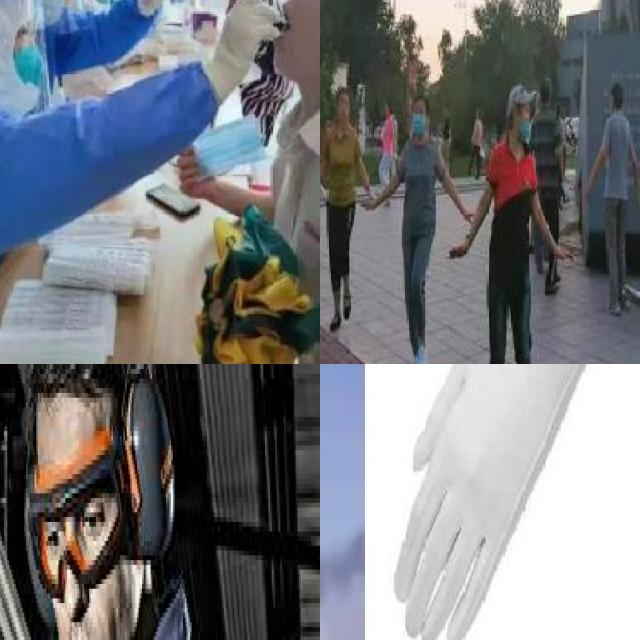Ear-protection: (41, 364, 182, 568)
face_mask: (405, 104, 434, 136), (516, 100, 536, 144)
face_nomask: (272, 0, 320, 93)
hand_glove: (390, 364, 550, 640), (212, 0, 279, 81), (618, 280, 640, 308)
hand_noglove: (178, 144, 214, 204), (445, 239, 466, 262), (357, 193, 376, 213), (556, 244, 574, 264), (582, 176, 591, 195), (464, 207, 474, 224), (632, 185, 640, 205)
head_nohelmet: (501, 82, 544, 115), (610, 84, 631, 115), (410, 91, 432, 110), (334, 85, 354, 104)
person: (471, 85, 566, 364), (388, 89, 452, 364), (577, 69, 640, 331), (320, 86, 381, 328)
